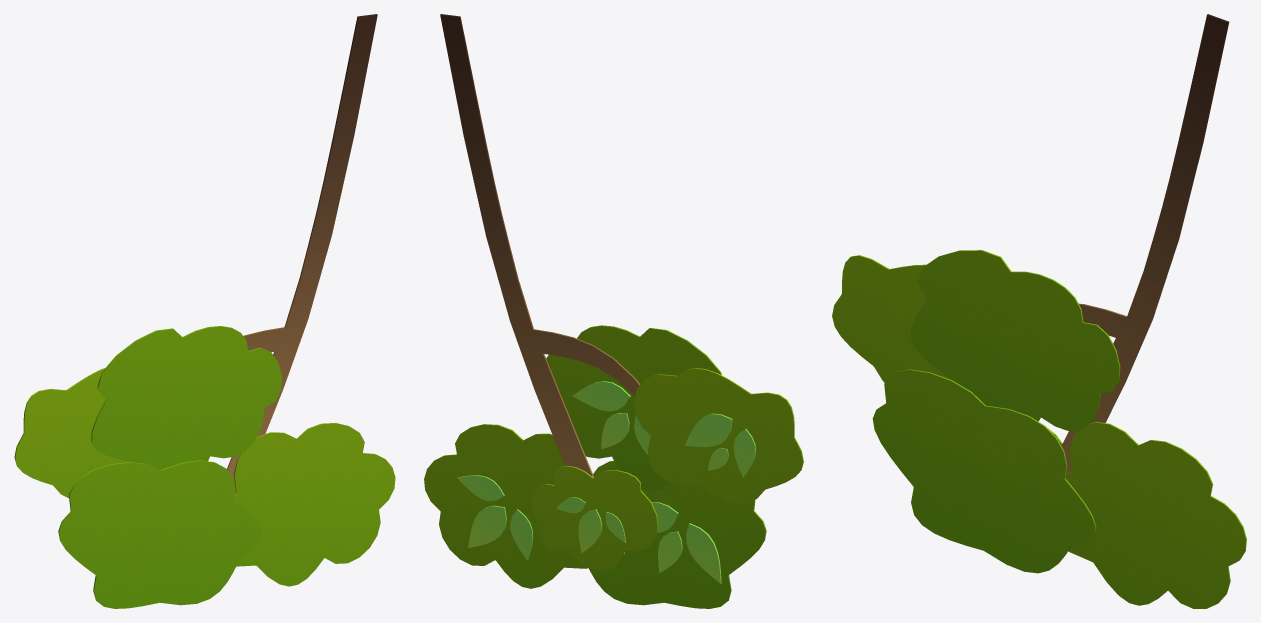
The model's file is obj-boom-5.FBX.
3 renders of one model, left to right at view 1: azimuth 30°, elevation 25°; view 2: azimuth 150°, elevation 25°; view 3: azimuth 330°, elevation 25°, orthographic. The views are drawn at different scales.
Parts seen in each view (by area): view 1: boom 5; view 2: boom 5; view 3: boom 5.
Boxes of the visible parts, left/top/right/bottom form: boom 5: left=14, top=14, right=395, bottom=608; boom 5: left=424, top=14, right=803, bottom=608; boom 5: left=832, top=14, right=1246, bottom=608.
Size of the model in its own units: 11.63 by 16.21 by 0.3117.
1 material, 1 textured.
